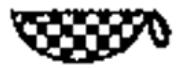Basket: (7, 6, 173, 64)
